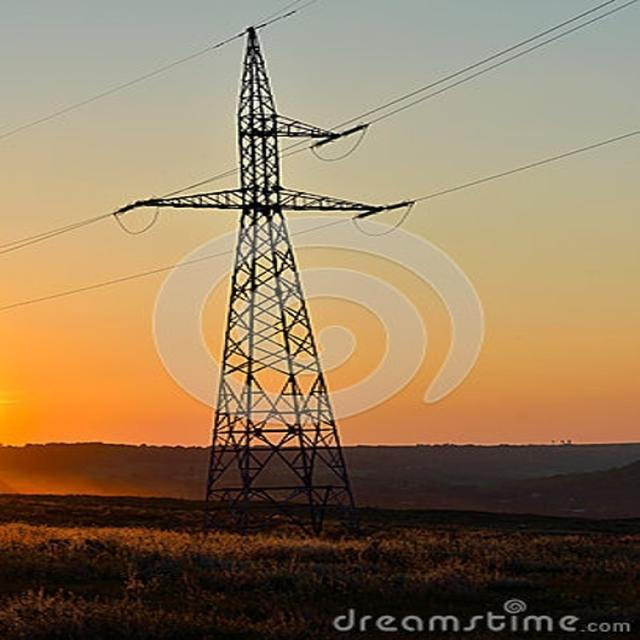non-critical vegetation: (120, 18, 410, 534)
